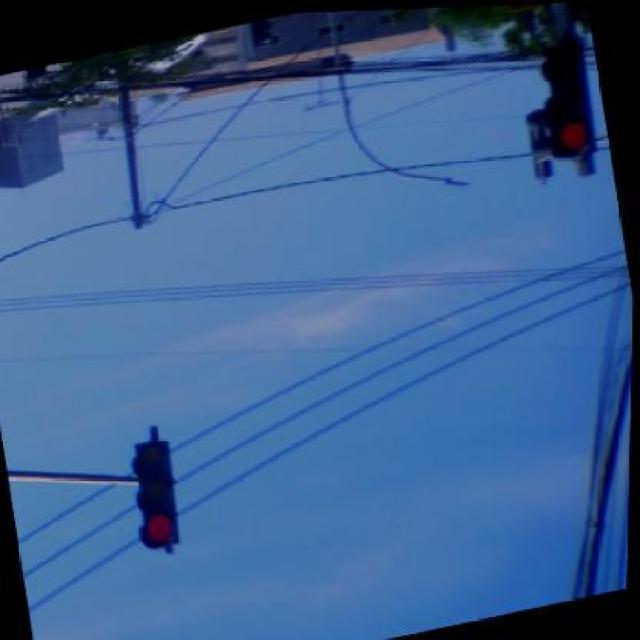red_light: (524, 4, 593, 177), (130, 424, 177, 550)
